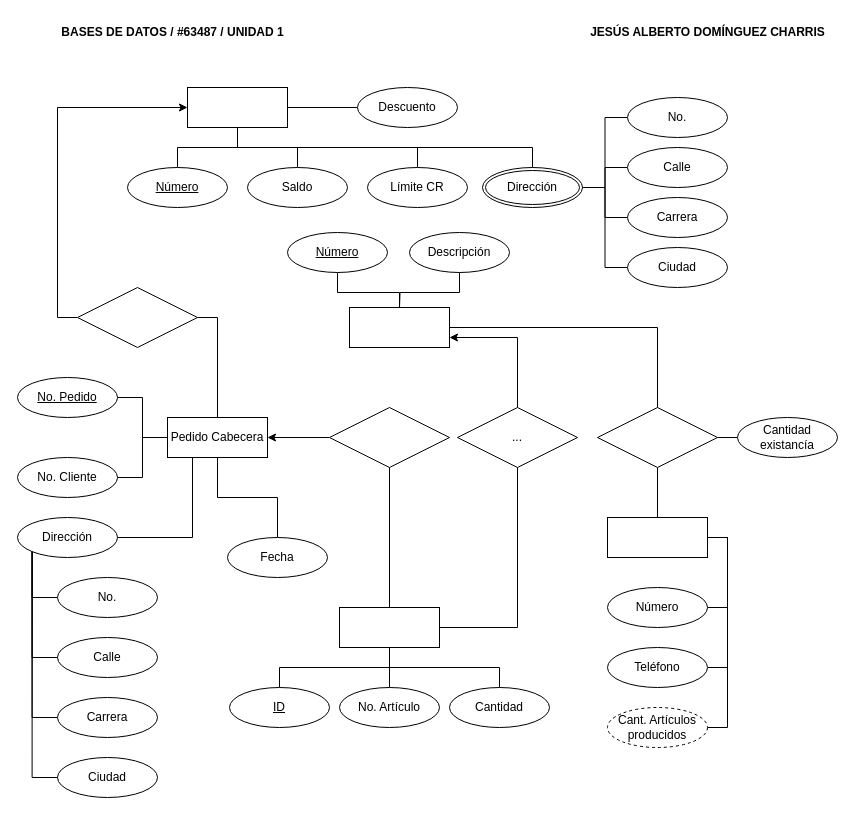
Image size: 855x815. Some labels were removed from this diagram. The centre of each missing label's shape, as x and y in pixels:
"Artículo" belongs at (x=399, y=327).
"Clientes" belongs at (x=237, y=107).
"Contiene" belongs at (x=389, y=437).
"Fábrica" belongs at (x=657, y=537).
"Pedido Cuerpo" belongs at (x=389, y=627).
"Pedir" belongs at (x=137, y=317).
"Relationship" belongs at (x=657, y=437).
